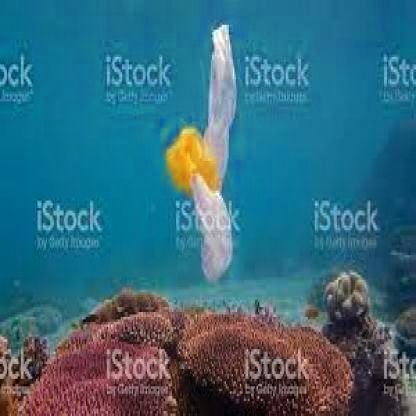pbag: (165, 20, 239, 287)
